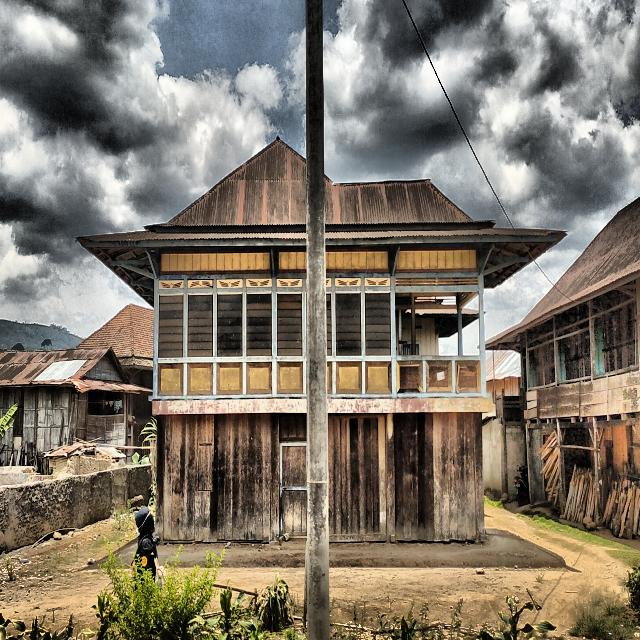column: (474, 411, 485, 541), (155, 414, 165, 541), (270, 413, 279, 542), (386, 413, 395, 542), (593, 421, 602, 527), (557, 422, 567, 514), (498, 419, 509, 496), (525, 423, 534, 505)
door: (279, 442, 307, 536)
ornamen: (365, 361, 392, 395), (426, 360, 453, 394), (276, 361, 303, 394), (246, 361, 272, 395), (397, 359, 423, 393), (187, 362, 213, 395), (336, 361, 362, 394), (455, 360, 481, 393), (157, 363, 183, 395), (217, 362, 242, 395), (327, 361, 332, 394)
roof: (76, 135, 566, 308), (484, 196, 640, 351), (0, 348, 153, 393), (74, 303, 153, 369)
wall: (157, 251, 272, 396), (163, 414, 272, 541), (394, 413, 476, 540), (326, 248, 392, 393), (328, 413, 387, 541), (0, 387, 74, 456), (276, 250, 307, 394)
window: (335, 293, 361, 355), (365, 293, 391, 355), (158, 295, 183, 358), (217, 294, 242, 357), (246, 293, 271, 356), (188, 295, 213, 357), (277, 294, 302, 356), (594, 321, 605, 374), (557, 333, 566, 381), (326, 292, 332, 356), (12, 406, 24, 437), (529, 350, 535, 387)
